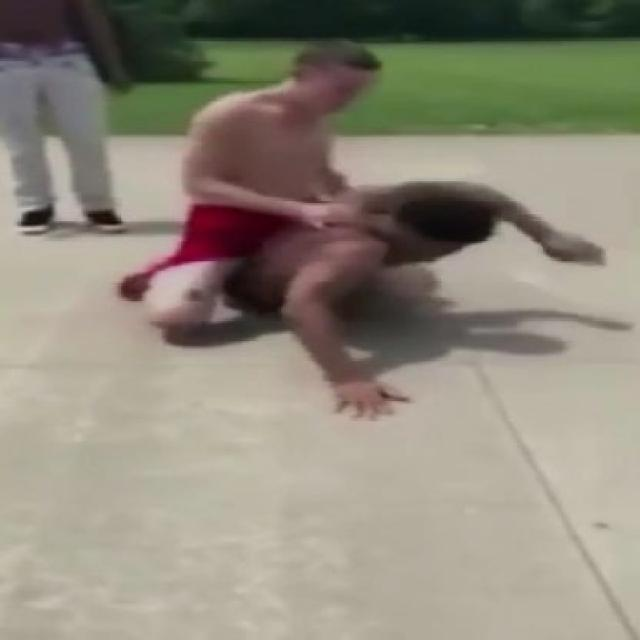fight: (66, 2, 639, 460)
